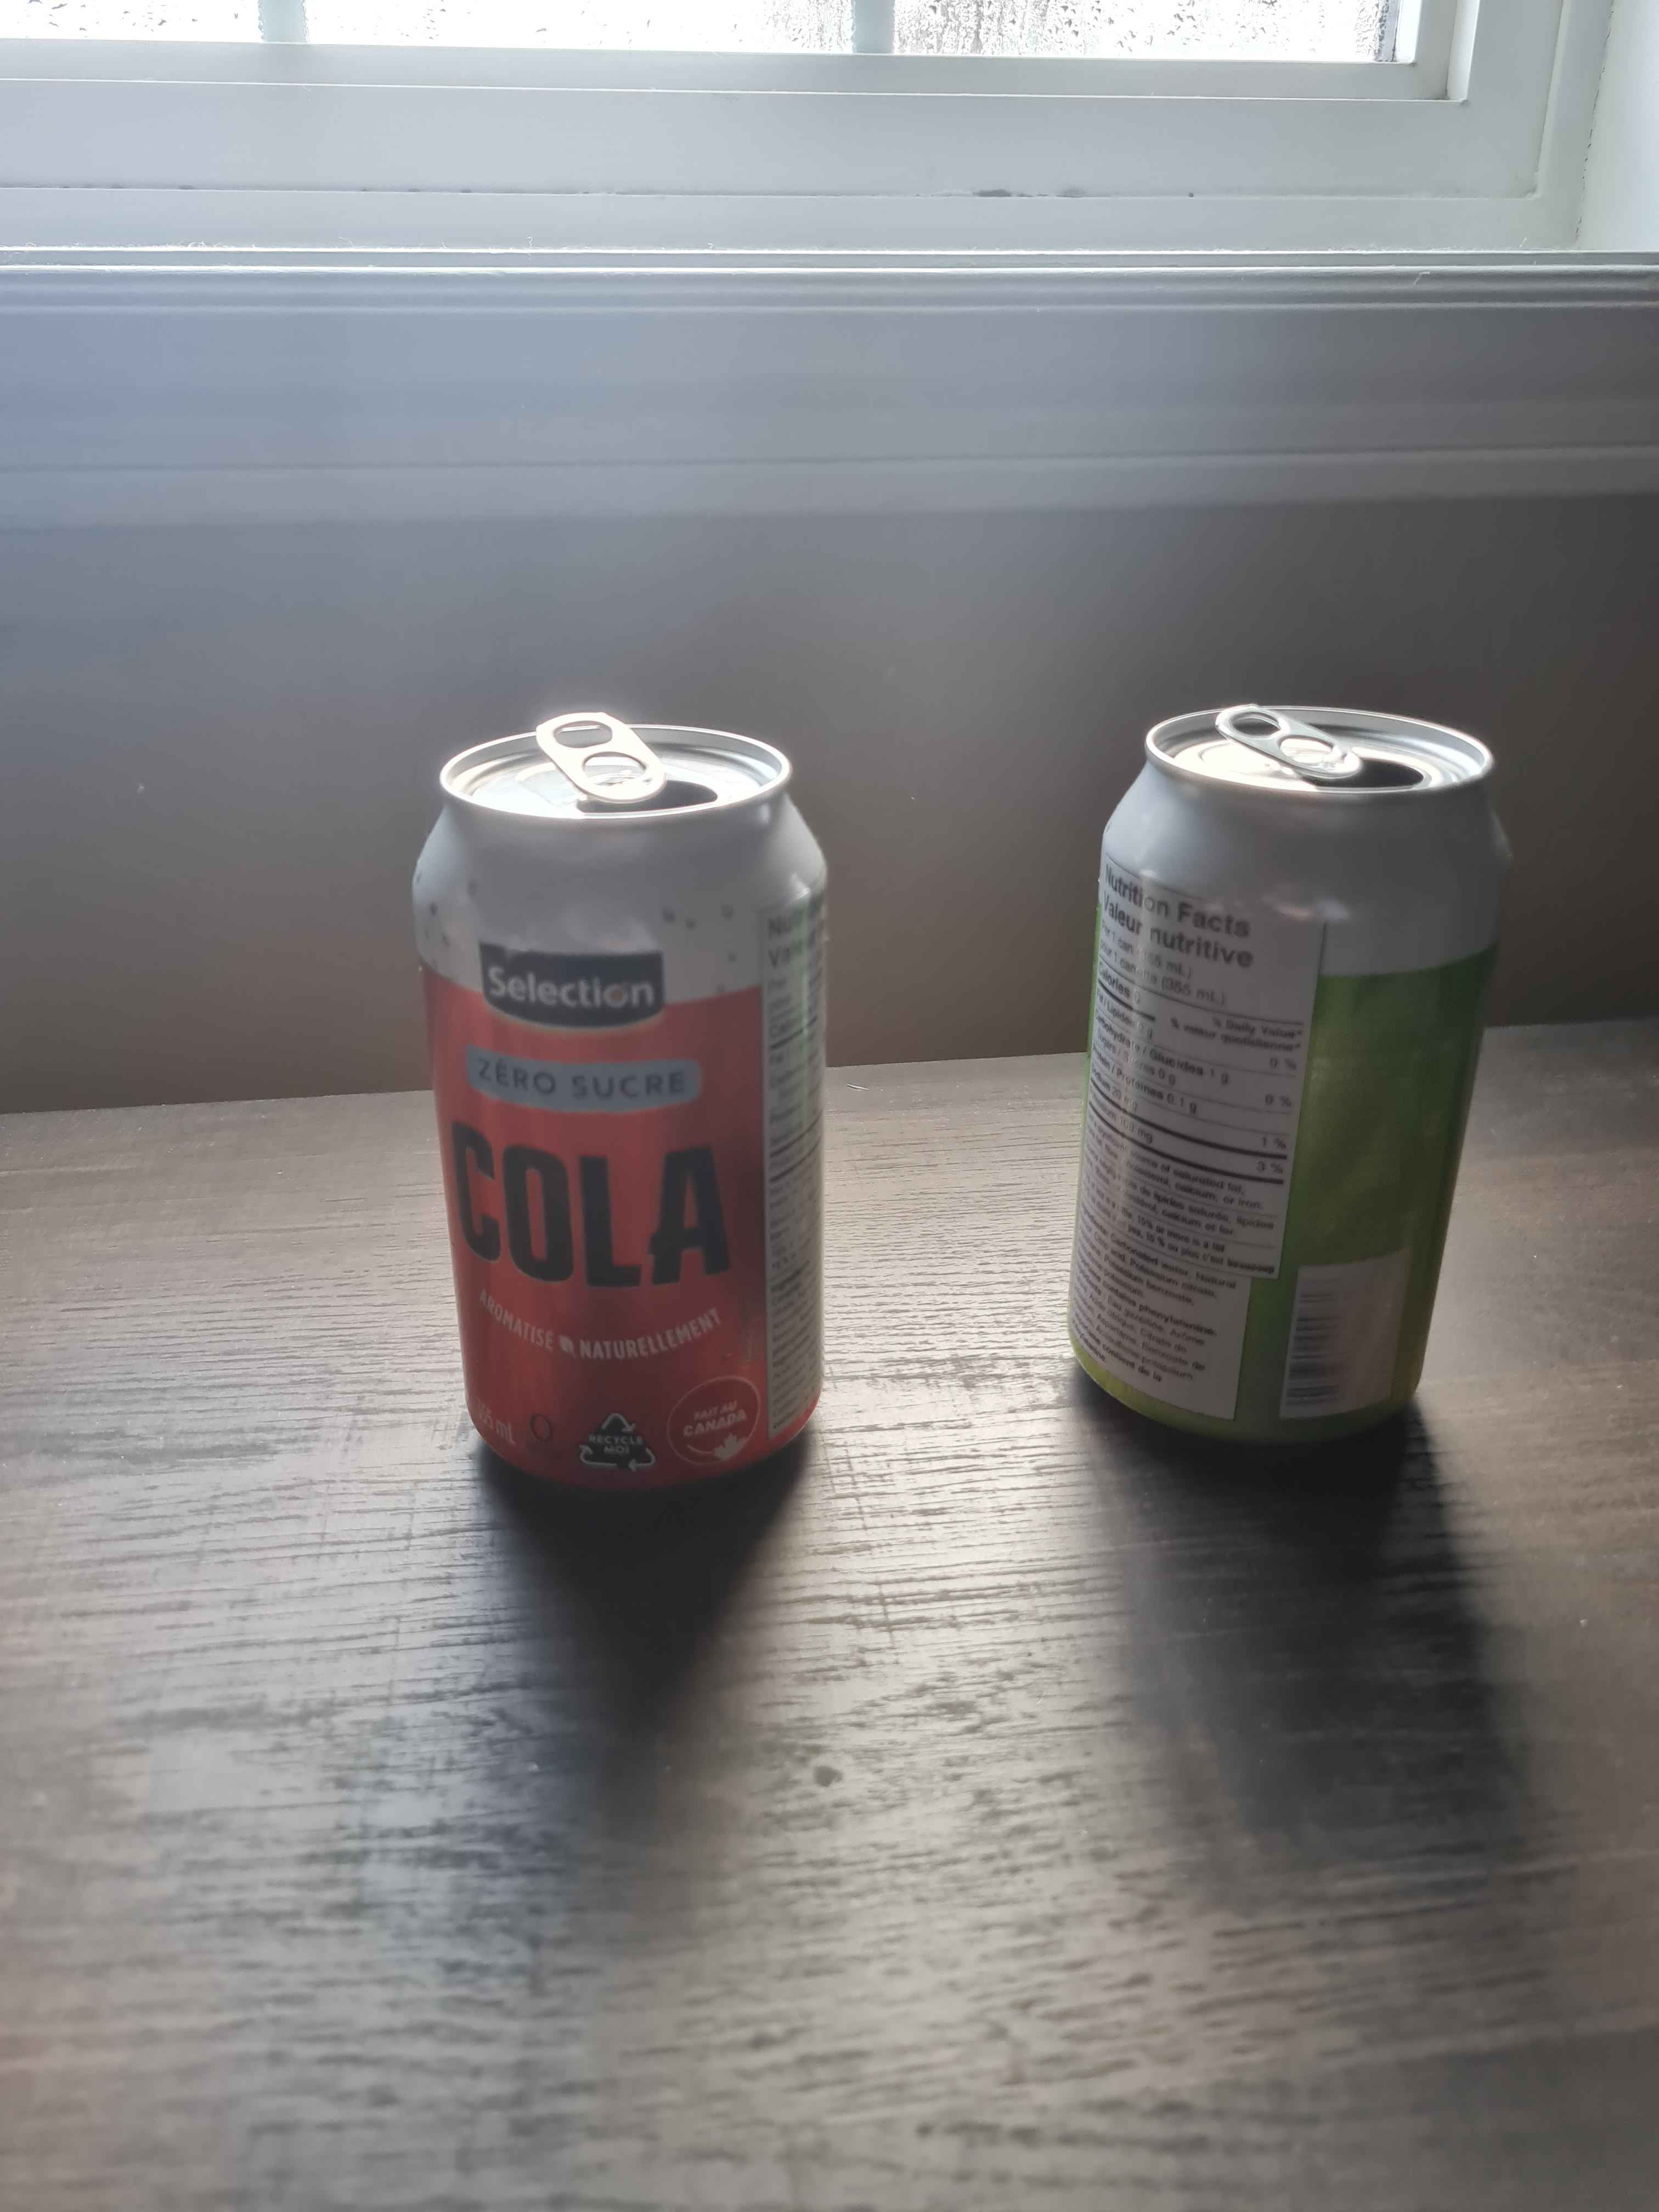soda can: (1065, 700, 1514, 1453), (408, 705, 831, 1501)
